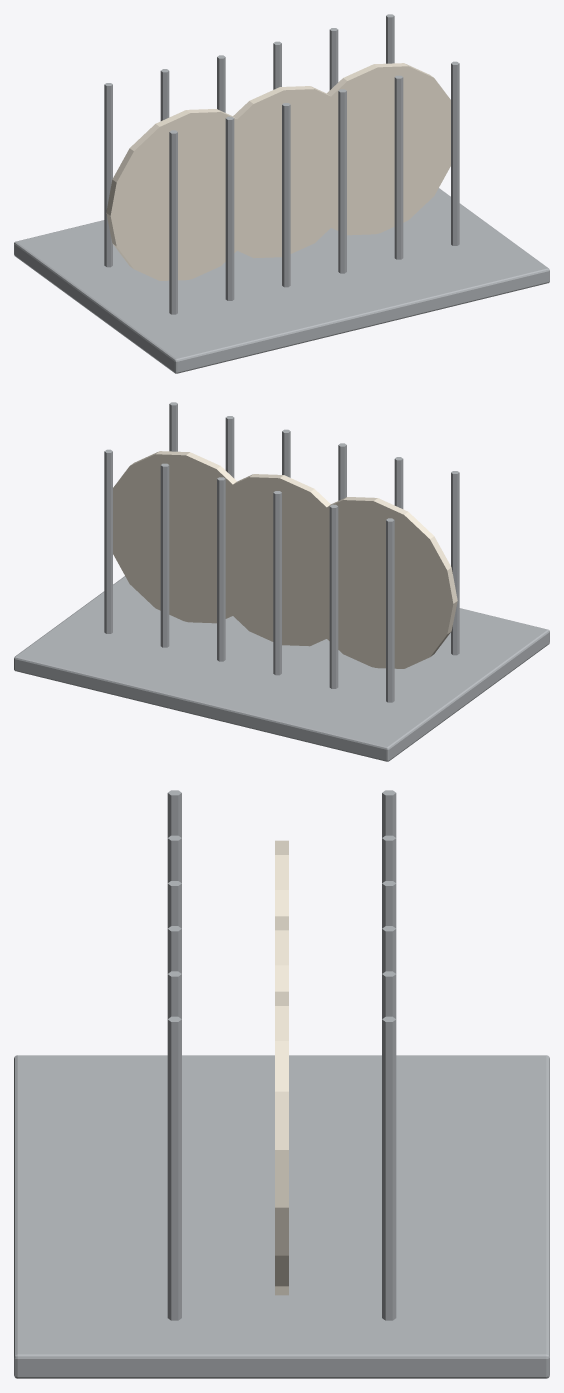
File: hh_dish_rack.glb
3 renders of one model, top to bottom at view 1: azimuth 30°, elevation 25°; view 2: azimuth 150°, elevation 25°; view 3: azimuth 270°, elevation 25°, orthographic. The views are drawn at different scales.
Parts seen in each view (by area): view 1: tray, plate.001, plate, plate.002, wire.002, wire.008, wire, wire.004, wire.006, wire.010, wire.001, wire.009 (+3 smaller); view 2: tray, plate.002, plate, plate.001, wire.003, wire.009, wire.001, wire.005, wire.007, wire.011, wire, wire.008 (+3 smaller); view 3: tray, wire.010, wire.011, plate.002, plate, plate.001.
Boxes of the visible parts, left/top/right/bottom form: tray: left=14, top=188, right=549, bottom=373; plate.001: left=204, top=86, right=363, bottom=258; plate: left=106, top=109, right=266, bottom=280; plate.002: left=302, top=63, right=450, bottom=235; wire.002: left=225, top=116, right=234, bottom=300; wire.008: left=394, top=75, right=403, bottom=259; wire: left=169, top=130, right=177, bottom=314; wire.004: left=282, top=103, right=290, bottom=287; wire.006: left=338, top=89, right=346, bottom=273; wire.010: left=451, top=61, right=459, bottom=245; wire.001: left=104, top=83, right=112, bottom=267; wire.009: left=329, top=28, right=338, bottom=90; tray: left=14, top=576, right=549, bottom=761; plate.002: left=113, top=451, right=265, bottom=623; plate: left=294, top=497, right=457, bottom=668; plate.001: left=200, top=474, right=357, bottom=646; wire.003: left=329, top=504, right=338, bottom=688; wire.009: left=160, top=463, right=169, bottom=647; wire.001: left=386, top=518, right=394, bottom=702; wire.005: left=273, top=491, right=281, bottom=675; wire.007: left=217, top=477, right=225, bottom=661; wire.011: left=104, top=449, right=112, bottom=633; wire: left=451, top=471, right=459, bottom=655; wire.008: left=225, top=416, right=234, bottom=478; tray: left=14, top=1055, right=549, bottom=1378; wire.010: left=167, top=1016, right=181, bottom=1320; wire.011: left=382, top=1016, right=396, bottom=1320; plate.002: left=275, top=991, right=288, bottom=1295; plate: left=275, top=840, right=288, bottom=916; plate.001: left=275, top=916, right=288, bottom=991.
Size of the model in its own units: 0.4 by 0.2 by 0.3.
